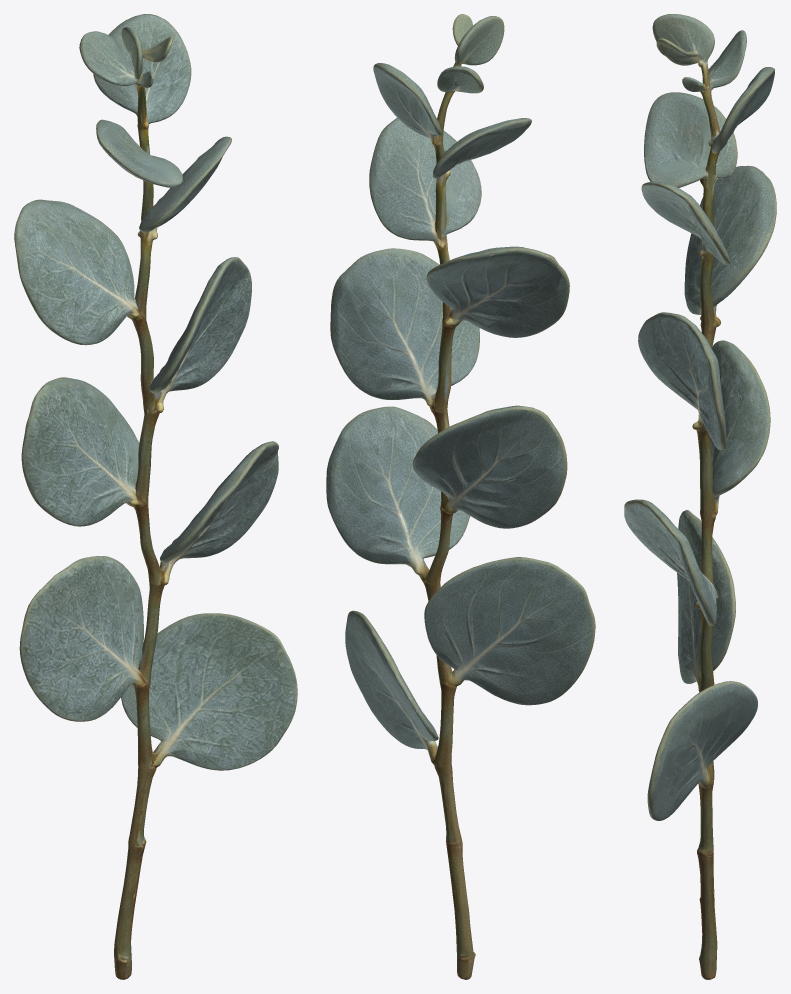
The model's file is eucalyptus.glb.
3 views of the same model, side by side, from view 1: azimuth 30°, elevation 25°; view 2: azimuth 150°, elevation 25°; view 3: azimuth 270°, elevation 25° (orthographic).
Parts seen in each view (by area): view 1: eucalyptus; view 2: eucalyptus; view 3: eucalyptus.
Boxes of the visible parts, x1,y1,x2,y2 form: eucalyptus: [14, 14, 297, 979]; eucalyptus: [326, 14, 595, 979]; eucalyptus: [624, 14, 776, 979].
Size of the model in its own units: 0.2877 by 1 by 0.1438.
1 material, 1 textured.
